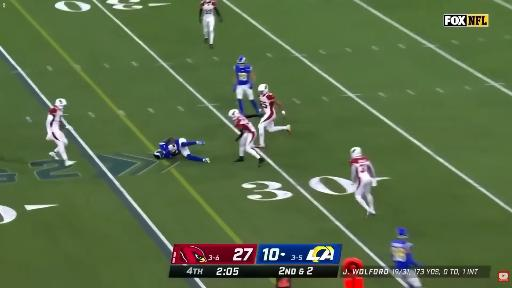Helmet: (228, 109, 240, 120), (258, 84, 268, 96), (55, 99, 66, 109), (350, 148, 361, 157), (154, 150, 164, 159), (238, 56, 245, 64)
Jersey: (391, 240, 418, 269), (350, 156, 375, 182), (159, 139, 180, 158), (47, 107, 62, 132), (235, 115, 255, 133), (234, 65, 251, 85), (259, 93, 274, 114), (200, 1, 216, 18)
Player: (257, 84, 290, 147), (228, 110, 264, 166), (46, 99, 75, 166), (391, 228, 421, 287), (350, 148, 376, 215), (233, 56, 258, 114), (154, 138, 209, 162), (199, 0, 222, 48)
